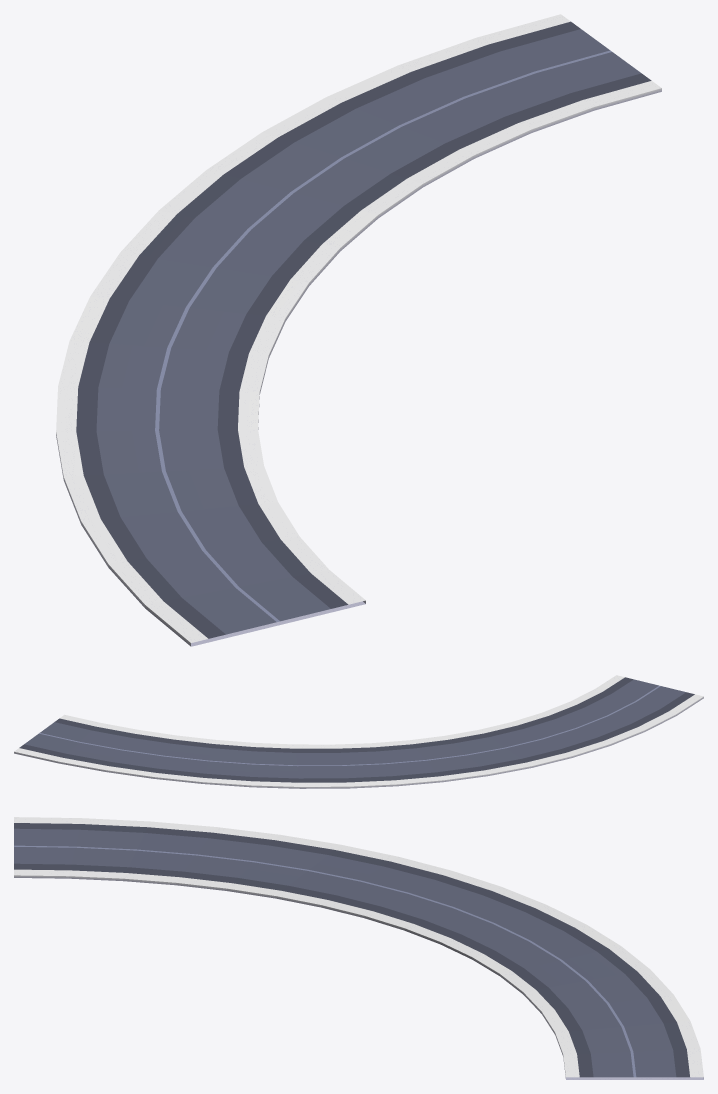
The model's file is road-Turn-Flat-Flat-Up1-Right-Size5.glb.
3 renders of one model, top to bottom at view 1: azimuth 30°, elevation 25°; view 2: azimuth 150°, elevation 25°; view 3: azimuth 270°, elevation 25°, orthographic. The views are drawn at different scales.
Visible parts, largest first — view 1: road-Turn-Flat-Flat-Up1-Right-Size5; view 2: road-Turn-Flat-Flat-Up1-Right-Size5; view 3: road-Turn-Flat-Flat-Up1-Right-Size5.
Boxes of the visible parts, x1,y1,x2,y2 form: road-Turn-Flat-Flat-Up1-Right-Size5: [56, 14, 661, 646]; road-Turn-Flat-Flat-Up1-Right-Size5: [14, 675, 703, 788]; road-Turn-Flat-Flat-Up1-Right-Size5: [14, 817, 703, 1079].
Bounding box in the file's own units: 5 × 0.27 × 5.
Materials: 1 (1 with a texture image).
